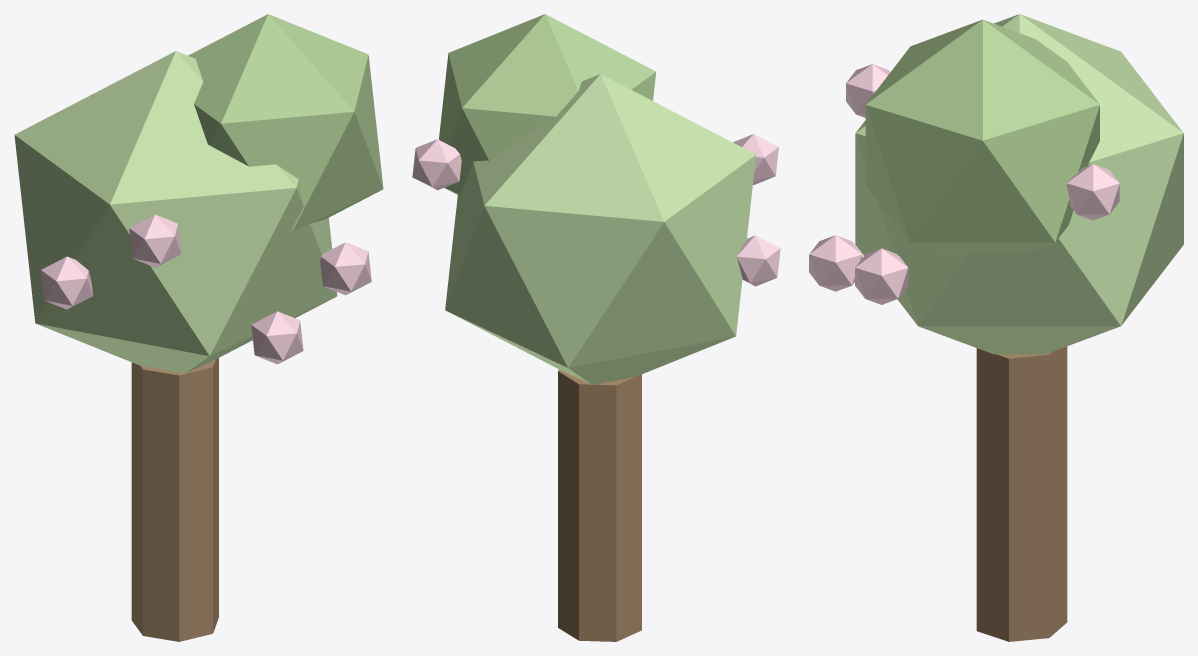
The model's file is tree_fruit_blossom.glb.
The picture shows the model from 3 angles, left to right: view 1: azimuth 30°, elevation 25°; view 2: azimuth 150°, elevation 25°; view 3: azimuth 270°, elevation 25°; orthographic projection. The views are drawn at different scales.
Parts seen in each view (by area): view 1: tree_fruit; view 2: tree_fruit; view 3: tree_fruit.
Part boxes in pixels (left/top/right/bottom): tree_fruit: left=14, top=14, right=383, bottom=641; tree_fruit: left=412, top=14, right=780, bottom=641; tree_fruit: left=809, top=14, right=1183, bottom=641.
Bounding box in the file's own units: 2.22 × 3.85 × 2.04.
